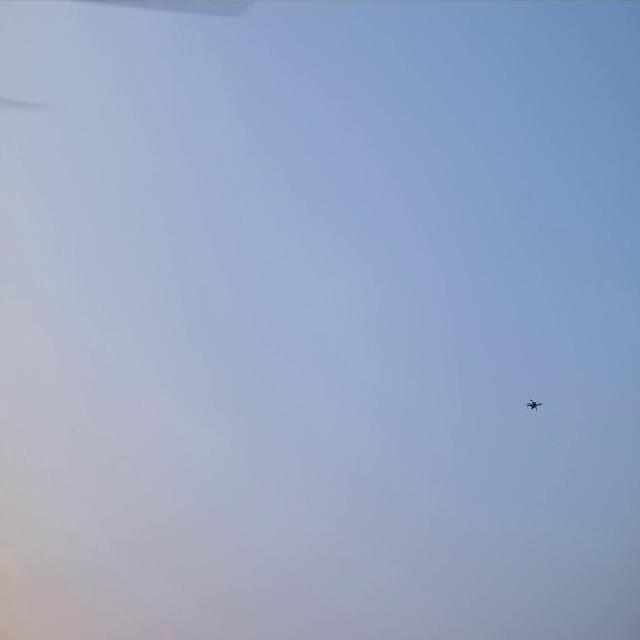UAV: (527, 399, 541, 408)
